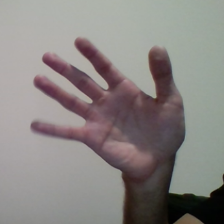left: (26, 28, 194, 181)
